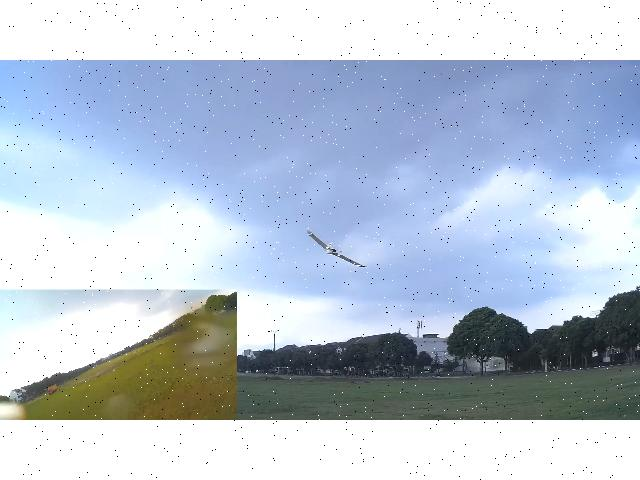Anti-Drone: (306, 229, 366, 267)
